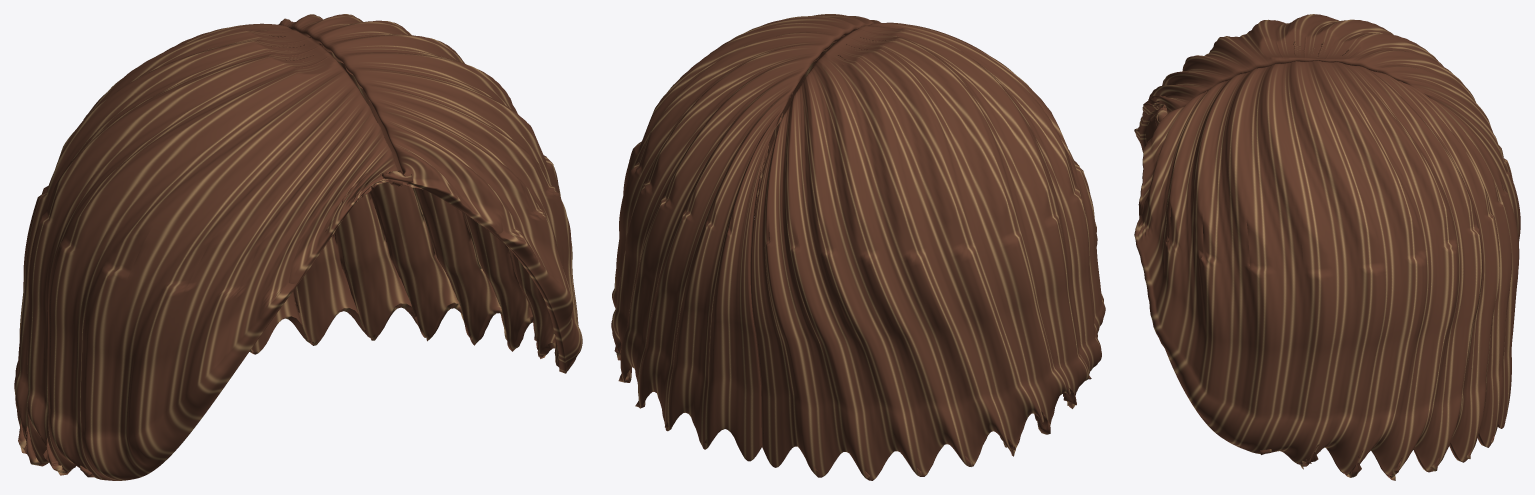
The model's file is Highlights-872aca8d5068252-hair.glb.
3 renders of one model, left to right at view 1: azimuth 30°, elevation 25°; view 2: azimuth 150°, elevation 25°; view 3: azimuth 270°, elevation 25°, orthographic. The views are drawn at different scales.
Parts seen in each view (by area): view 1: 226 hair / Hair252 / flowing sculpt flow.001; view 2: 226 hair / Hair252 / flowing sculpt flow.001; view 3: 226 hair / Hair252 / flowing sculpt flow.001.
Boxes of the visible parts, <box> form: 226 hair / Hair252 / flowing sculpt flow.001: <box>14,14,582,480</box>; 226 hair / Hair252 / flowing sculpt flow.001: <box>611,14,1105,480</box>; 226 hair / Hair252 / flowing sculpt flow.001: <box>1134,14,1520,480</box>.
Bounding box in the file's own units: 1.11 × 0.8579 × 0.8431.
Materials: 1 (1 with a texture image).
